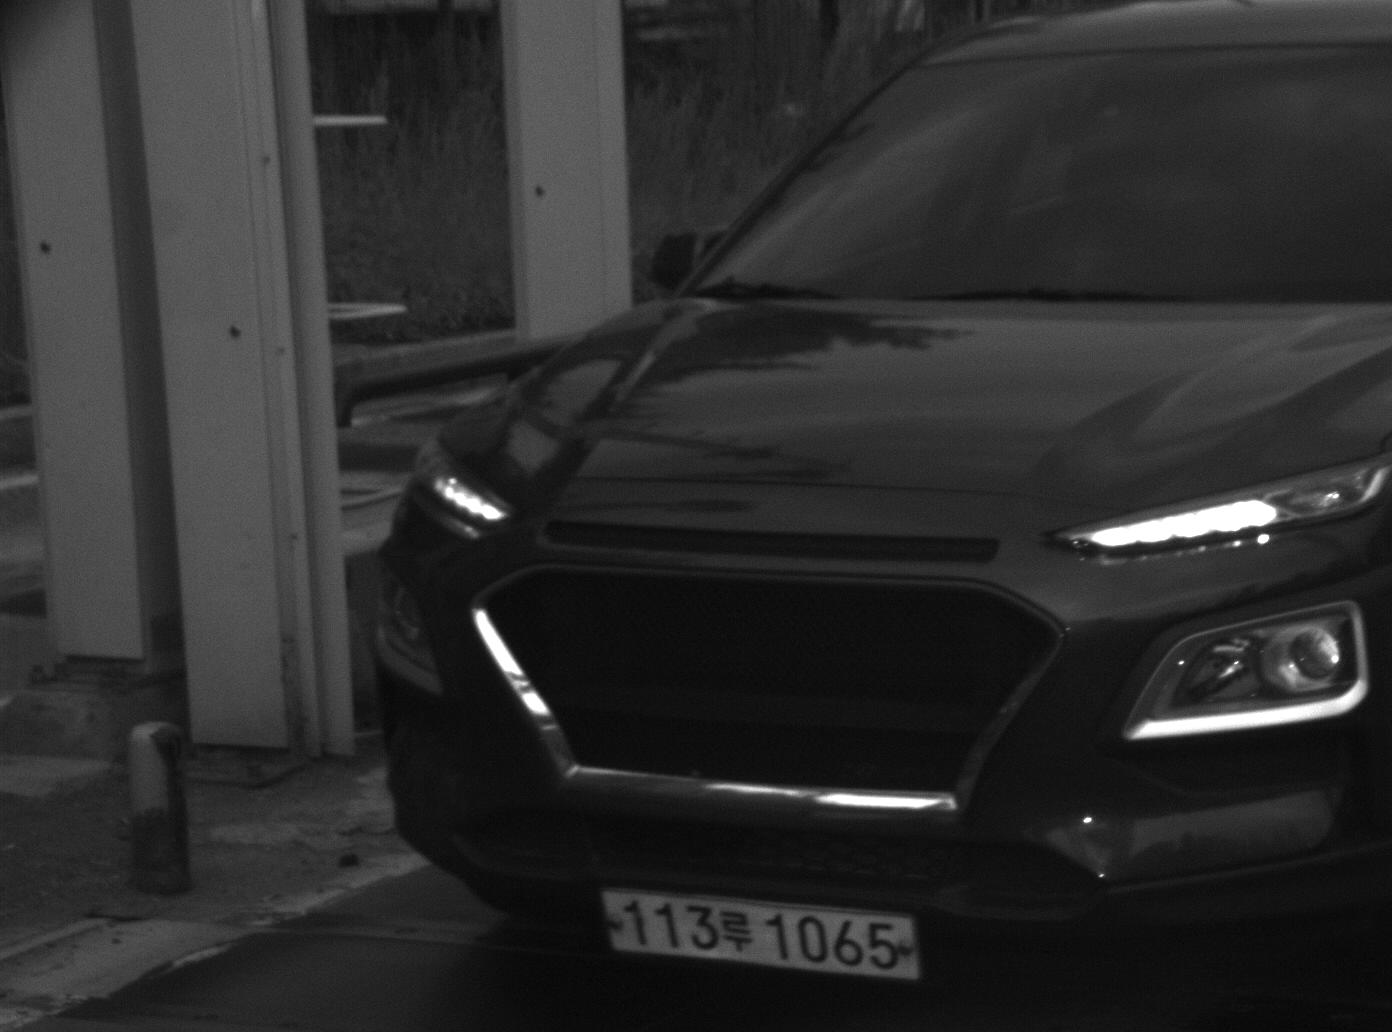car: (366, 2, 1392, 991)
plate: (596, 881, 927, 988)
